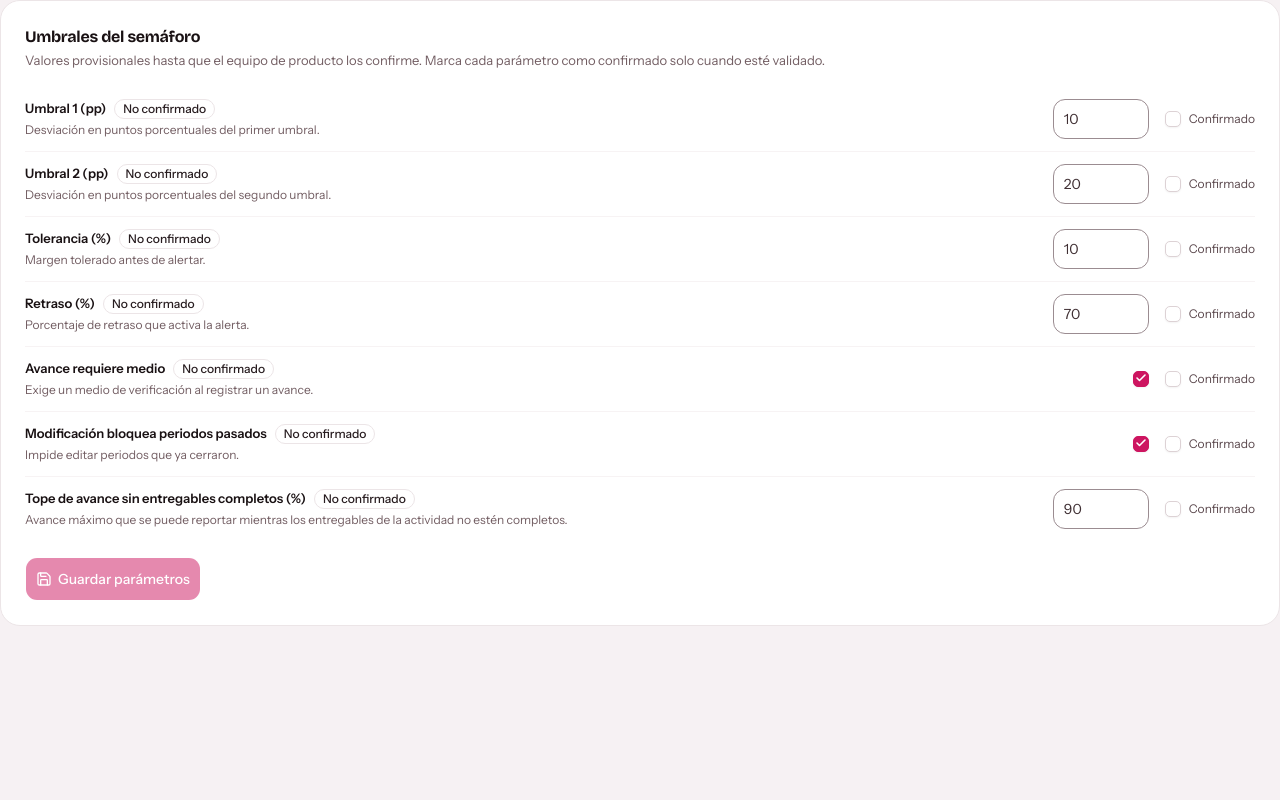
Test case: UmbralesSection › blocks save inline for a percentage outside 0-100
The width and height of the screenshot is (1280, 800).
Replace the text in the number field named "Retraso (%)" with "150" at (1101, 314), box [1053,294,1149,334]
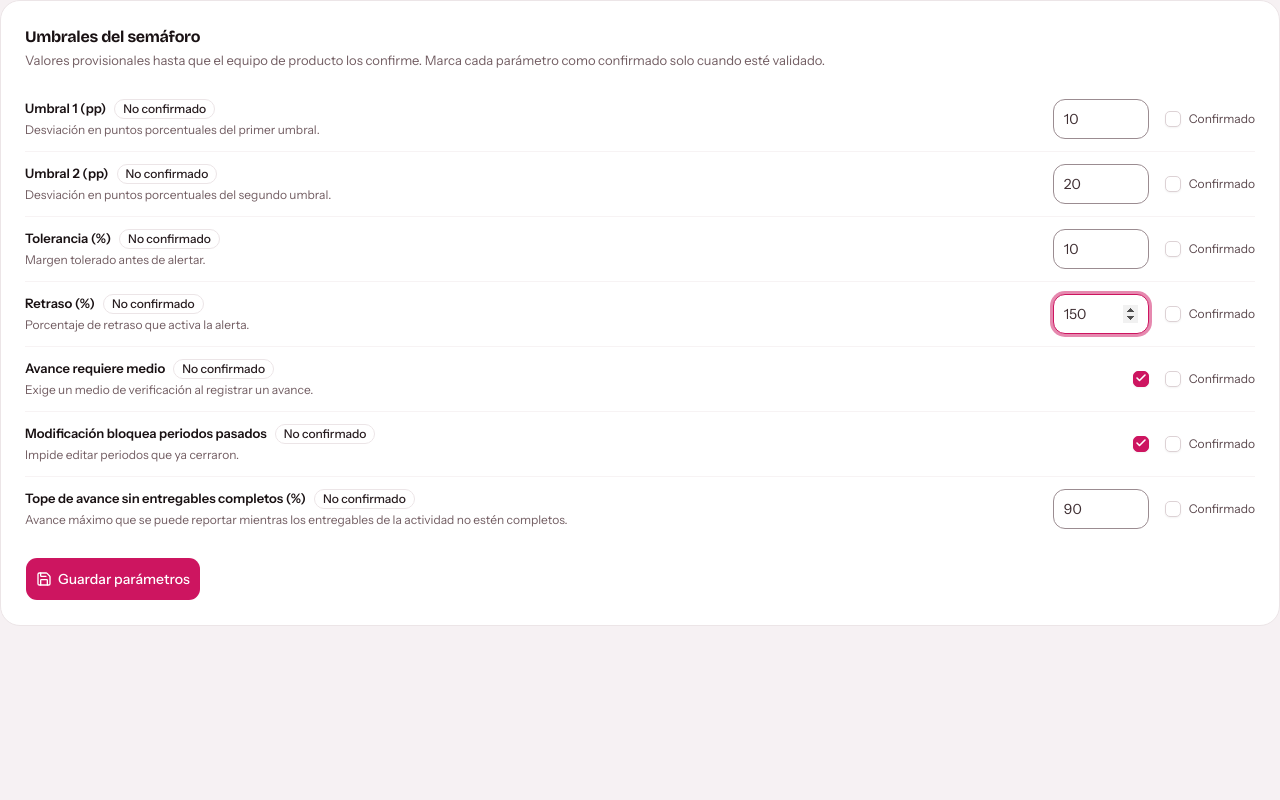
Click the button "Guardar parámetros".
click(113, 578)  # box [25,556,201,600]
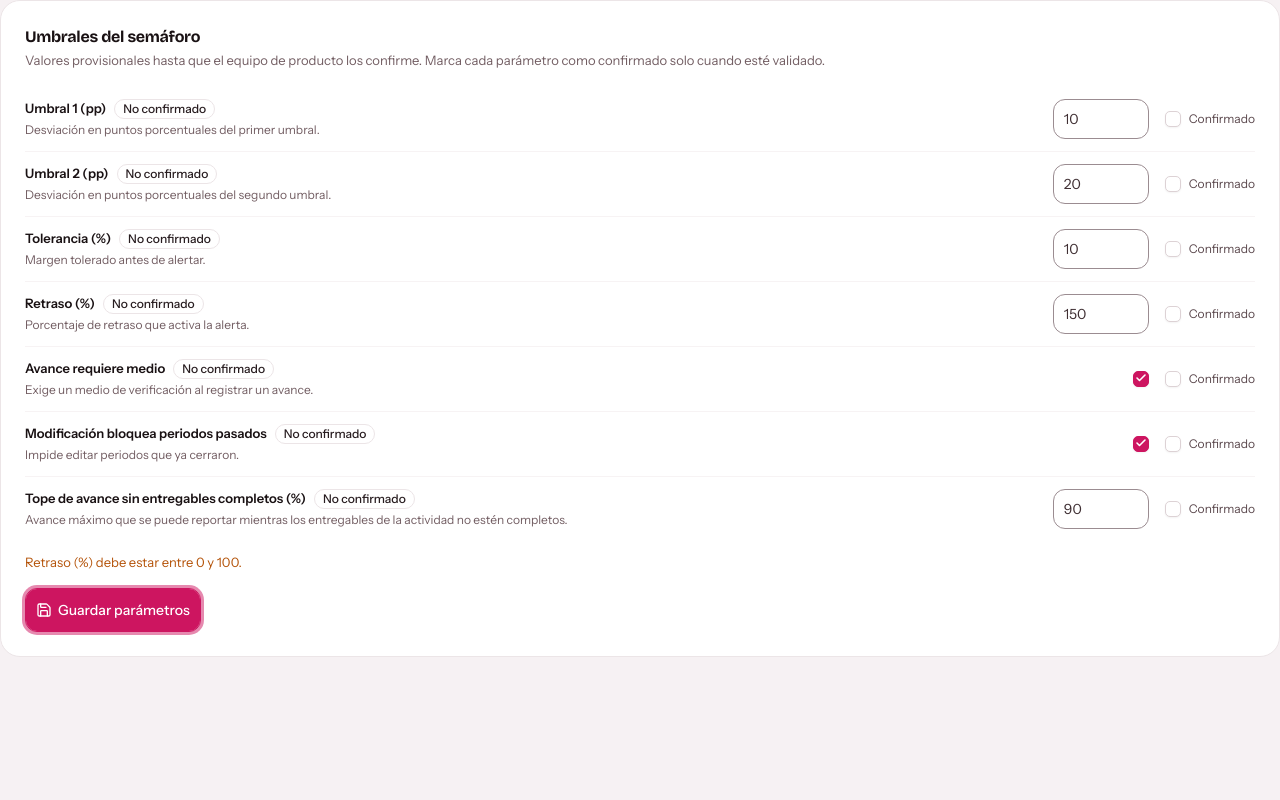
Check: the message reads "Retraso (%) debe estar entre 0 y 100.", box [25,554,242,570]
